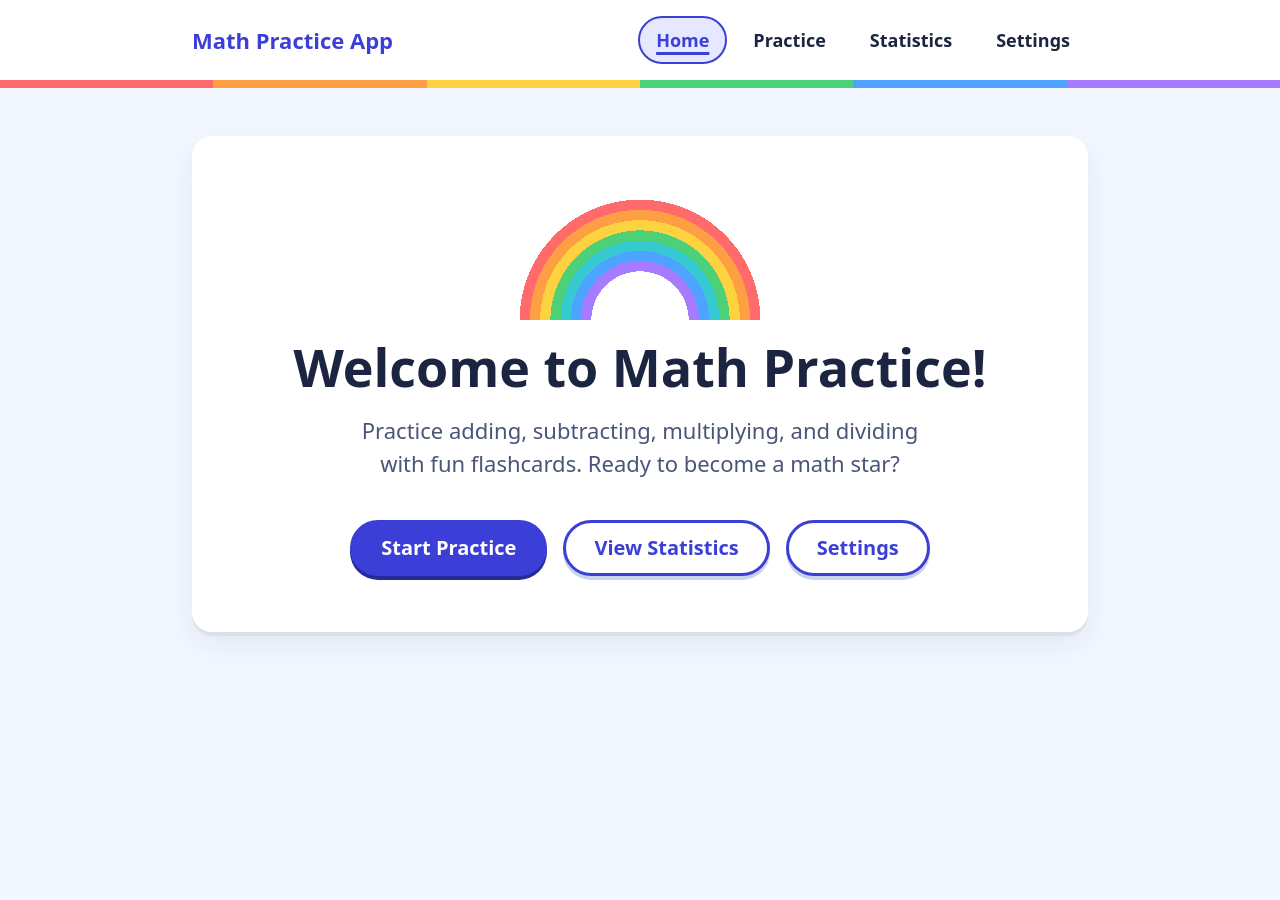
HomePage › navigates to /statistics when "View Statistics" is clicked
Click the link "View Statistics": (667, 548) [563,520,770,576]
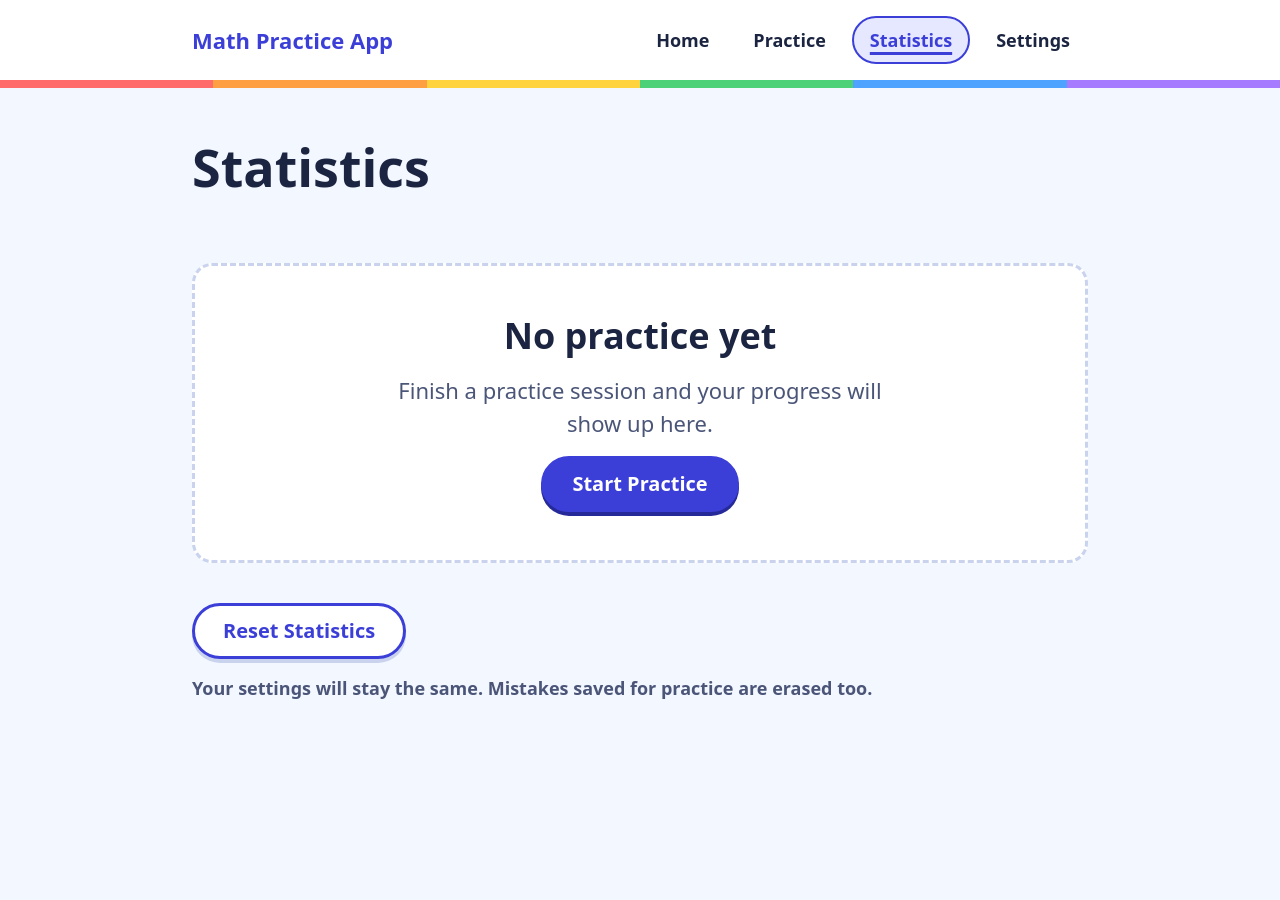
Now the heading "Statistics" is shown, box [192,131,430,202]
